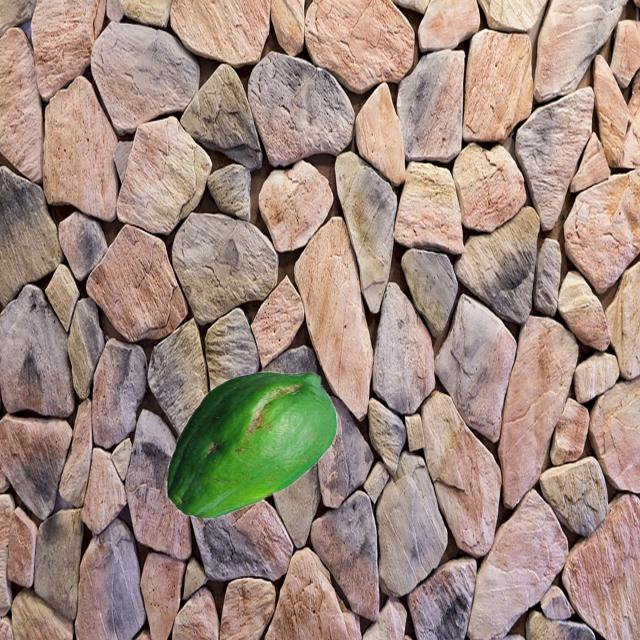Pepaya unrippen: (161, 365, 341, 521)
